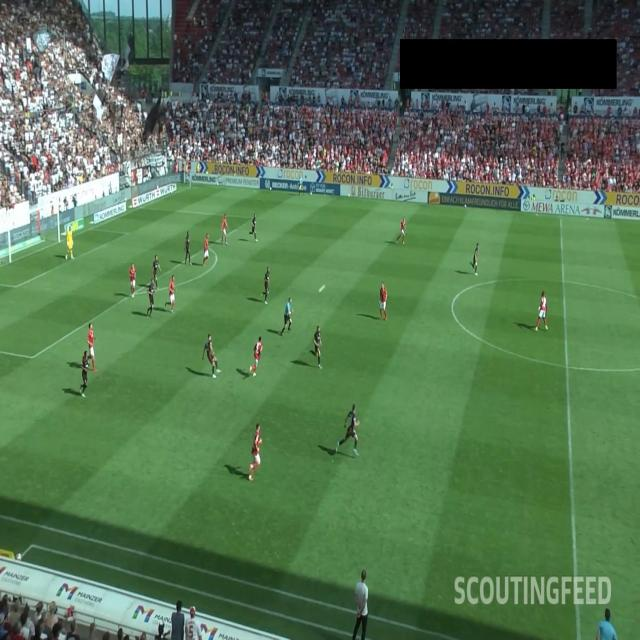ball: (318, 283, 326, 294)
